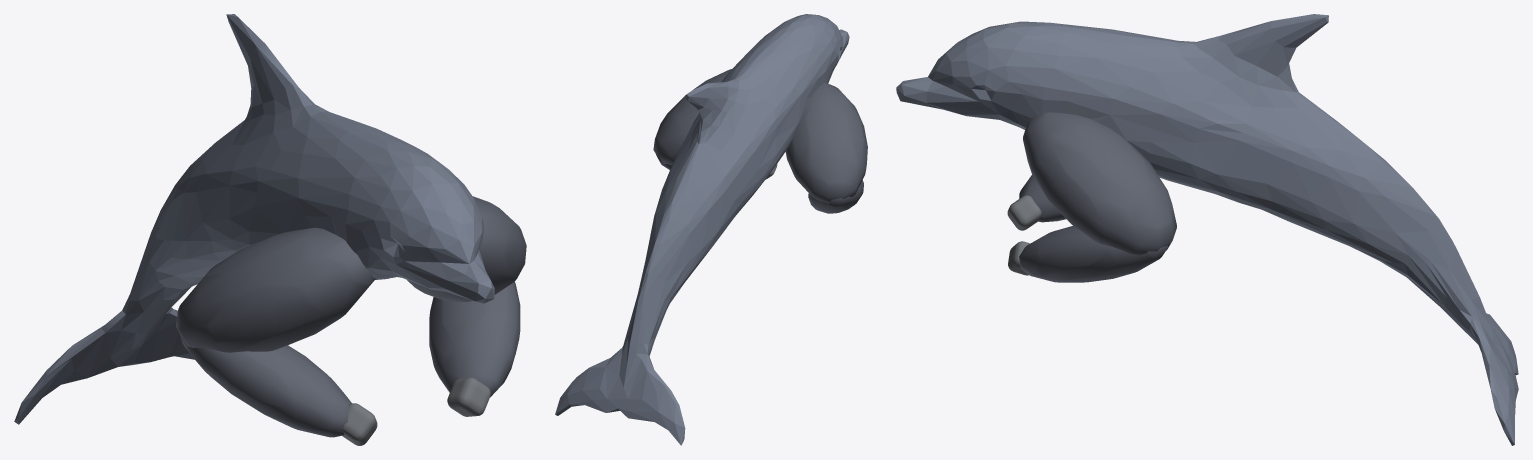
Rendered from dolphin5.glb.
3 renders of one model, left to right at view 1: azimuth 30°, elevation 25°; view 2: azimuth 150°, elevation 25°; view 3: azimuth 270°, elevation 25°, orthographic. The views are drawn at different scales.
Visible parts, largest first — view 1: fistL.001; view 2: fistL.001; view 3: fistL.001.
Part boxes in pixels (x1,y1,x2,y2): fistL.001: [14, 14, 526, 445]; fistL.001: [555, 14, 867, 445]; fistL.001: [896, 14, 1518, 445].
Bounding box in the file's own units: 1.46 × 2.01 × 2.89.
